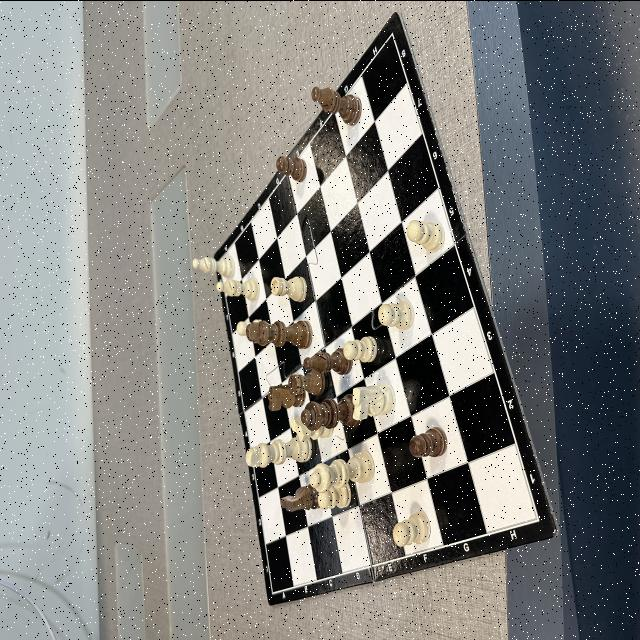Black-Bishop: (311, 86, 362, 126), (304, 346, 353, 374)
Black-King: (246, 319, 312, 349)
Black-Knight: (280, 482, 320, 510), (268, 383, 306, 410)
Black-Pawn: (409, 426, 447, 456), (276, 156, 306, 182)
Black-Queen: (300, 392, 362, 430)
Black-Rook: (288, 368, 325, 395)
White-Bishop: (216, 276, 260, 300), (192, 257, 235, 277)
White-King: (246, 432, 312, 467)
White-Knight: (352, 384, 395, 419), (291, 413, 333, 441)
White-Pawn: (392, 510, 430, 545), (406, 220, 444, 252), (378, 300, 414, 329), (318, 481, 352, 508), (343, 336, 378, 362), (237, 318, 265, 338)
White-Queen: (310, 450, 374, 492)
White-Rook: (270, 275, 306, 301)
